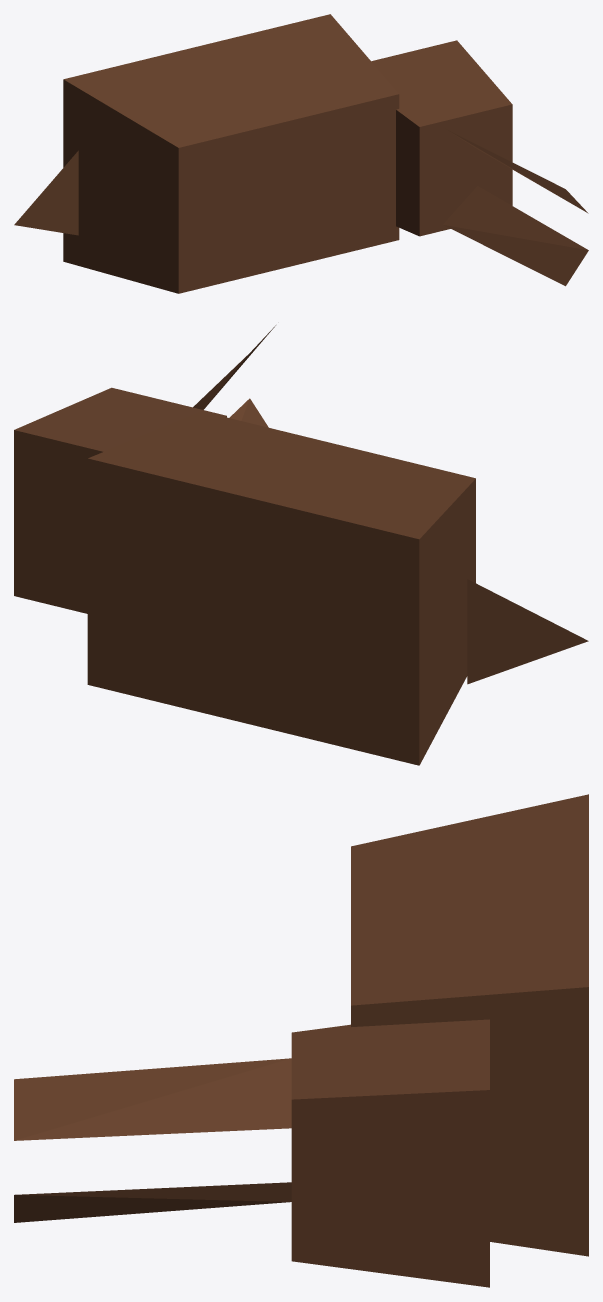
The model's file is SM_CommonRabbit.obj.
3 renders of one model, top to bottom at view 1: azimuth 30°, elevation 25°; view 2: azimuth 150°, elevation 25°; view 3: azimuth 270°, elevation 25°, orthographic. The views are drawn at different scales.
Visible parts, largest first — view 1: SM_CommonRabbit; view 2: SM_CommonRabbit; view 3: SM_CommonRabbit.
Part boxes in pixels (box(x1,y1,x2,y2)): SM_CommonRabbit: box(14, 14, 588, 293); SM_CommonRabbit: box(14, 325, 588, 765); SM_CommonRabbit: box(14, 794, 588, 1287).
Bounding box in the file's own units: 78 × 30 × 58.
